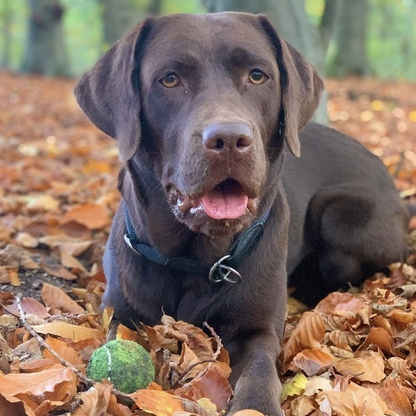labrado: (69, 8, 415, 412)
